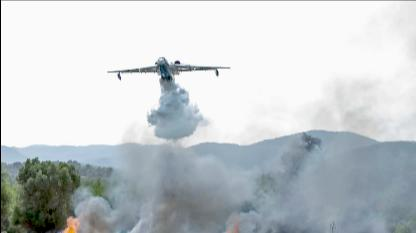B52: (106, 56, 228, 80)
